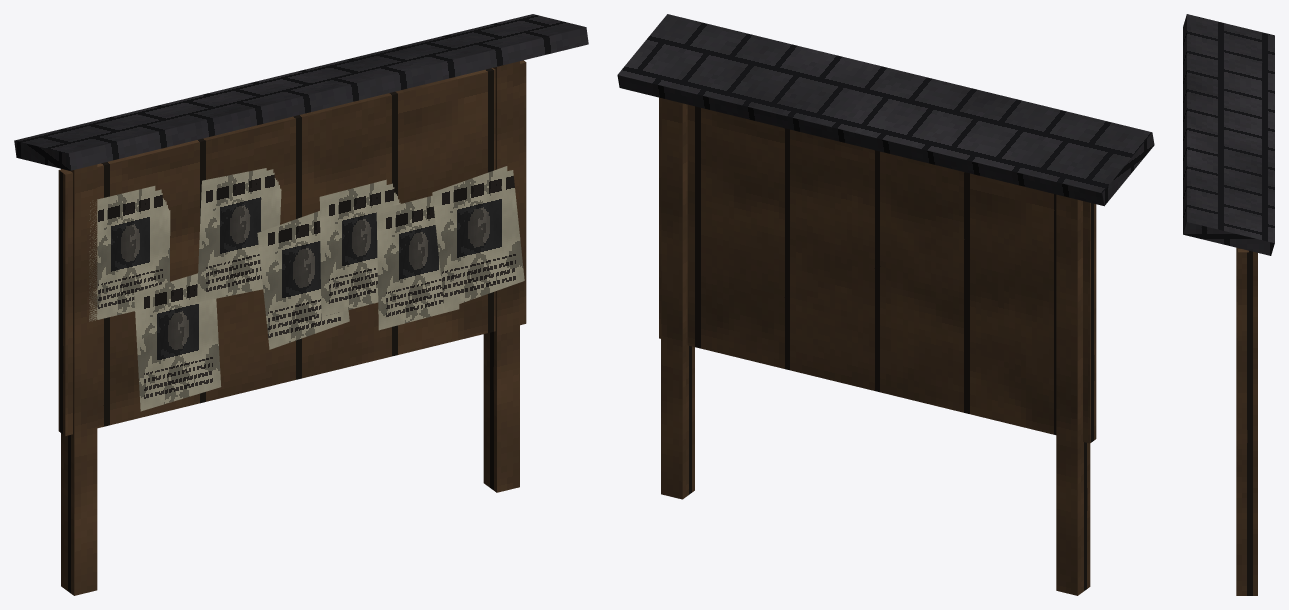
File: town_notice_board.glb
3 views of the same model, side by side, from view 1: azimuth 30°, elevation 25°; view 2: azimuth 150°, elevation 25°; view 3: azimuth 270°, elevation 25° (orthographic). The views are drawn at different scales.
Visible parts, largest first — view 1: detail, board-col; view 2: board-col, detail; view 3: detail, board-col.
Boxes of the visible parts, x1,y1,x2,y2 form: detail: (14, 14, 588, 411); board-col: (58, 60, 526, 595); board-col: (659, 97, 1096, 595); detail: (617, 14, 1154, 206); detail: (1183, 14, 1274, 255); board-col: (1236, 247, 1257, 595).
Size of the model in its own units: 2.7 by 2.35 by 0.5037.
3 materials, 3 textured.
